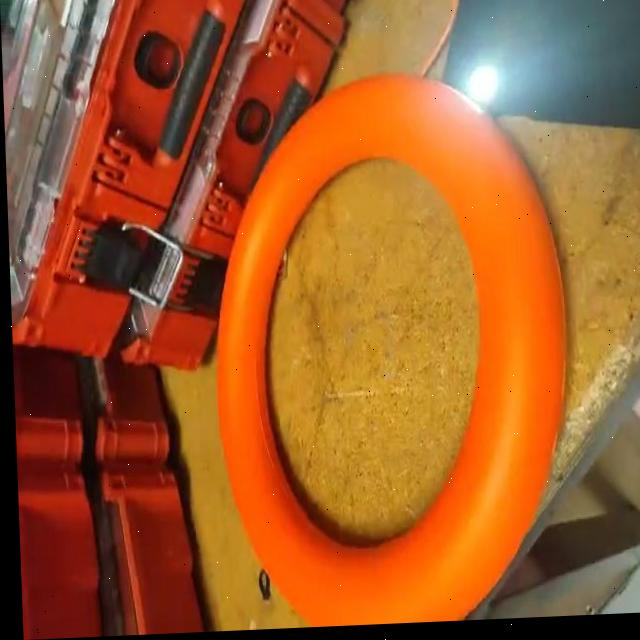note: (201, 65, 577, 633)
